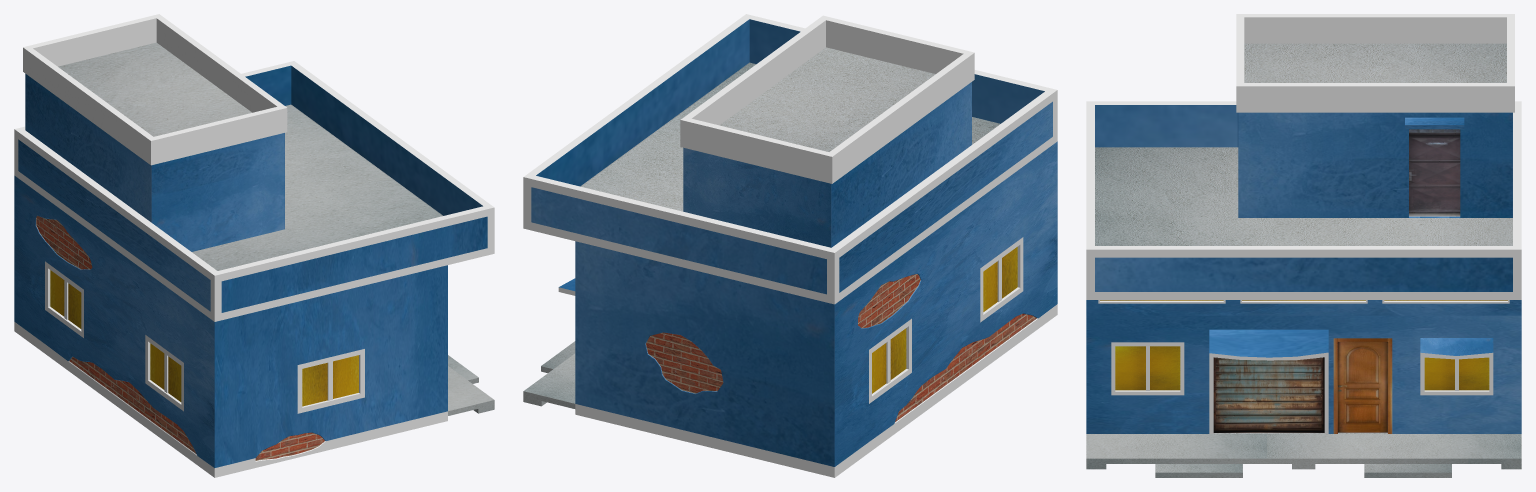
File: small-house.gltf
3 views of the same model, side by side, from view 1: azimuth 30°, elevation 25°; view 2: azimuth 150°, elevation 25°; view 3: azimuth 270°, elevation 25° (orthographic). The views are drawn at different scales.
Parts seen in each view (by area): view 1: building_003_0; view 2: building_003_0; view 3: building_003_0.
Part boxes in pixels (bbox=[...]): building_003_0: bbox=[14, 14, 494, 477]; building_003_0: bbox=[523, 14, 1057, 477]; building_003_0: bbox=[1086, 14, 1521, 477].
Size of the model in its own units: 6.36 by 5.85 by 7.45.
8 materials, 7 textured.
